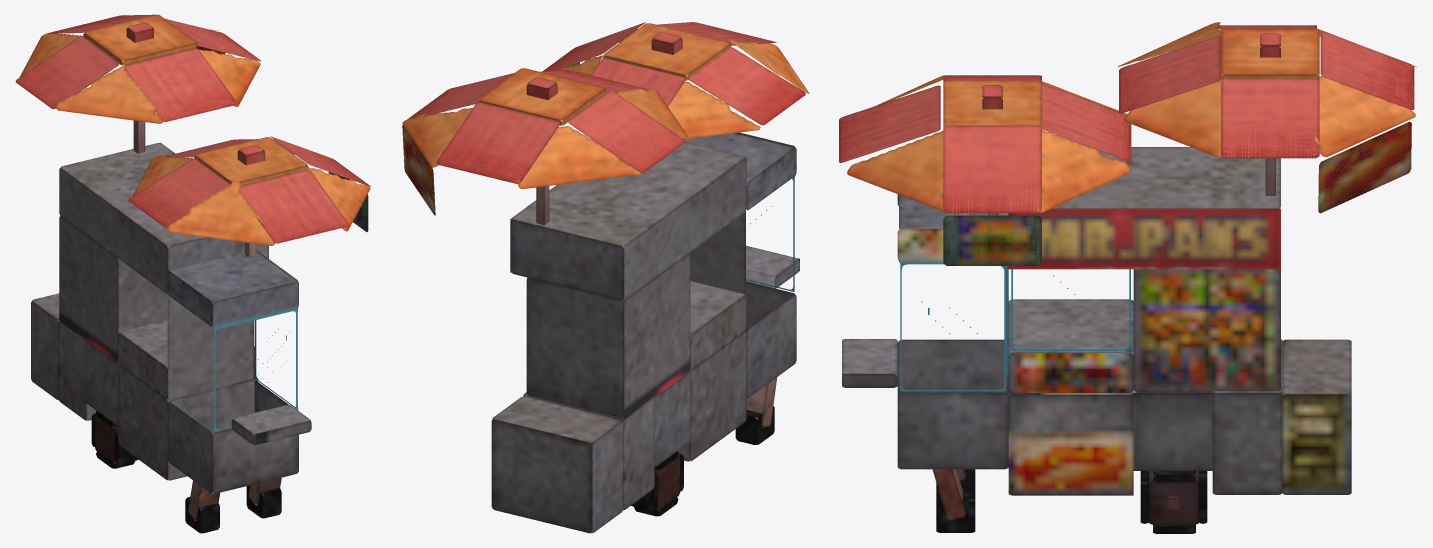
Rendered from kiosk32.fbx.
The picture shows the model from 3 angles, left to right: view 1: azimuth 30°, elevation 25°; view 2: azimuth 150°, elevation 25°; view 3: azimuth 270°, elevation 25°; orthographic projection. The views are drawn at different scales.
Visible parts, largest first — view 1: cube_6, cube_5, cube_7, cube, cube_14, cube_51, cube_35, cube_54, cube_8, cube_39, cube_42, cube_50 (+25 smaller); view 2: cube_6, cube_5, cube_3, cube_47, cube, cube_54, cube_7, cube_42, cube_48, cube_1, cube_33, cube_52 (+22 smaller); view 3: cube_6, cube_5, cube_7, cube, cube_1, cube_3, cube_36, cube_46, cube_2, cube_4, cube_37, cube_45 (+17 smaller).
Part boxes in pixels (x1,y1,x2,y2): cube_6: (59, 142, 268, 293); cube_5: (59, 216, 167, 363); cube_7: (168, 380, 298, 493); cube: (118, 365, 258, 480); cube_14: (167, 293, 253, 400); cube_51: (124, 48, 236, 121); cube_35: (240, 170, 348, 243); cube_54: (15, 36, 119, 109); cube_8: (169, 251, 296, 302); cube_39: (168, 182, 275, 245); cube_42: (128, 158, 229, 227); cube_50: (56, 66, 163, 123); cube_6: (510, 142, 746, 300); cube_5: (526, 253, 690, 419); cube_3: (491, 396, 623, 533); cube_47: (436, 102, 560, 183); cube: (677, 331, 746, 461); cube_54: (568, 90, 684, 172); cube_7: (745, 281, 796, 398); cube_42: (688, 47, 805, 125); cube_48: (517, 126, 640, 189); cube_1: (690, 281, 746, 370); cube_33: (603, 23, 731, 80); cube_52: (478, 68, 606, 125); cube_6: (1008, 147, 1280, 269); cube_5: (1133, 269, 1280, 392); cube_7: (897, 339, 1008, 469); cube: (1008, 351, 1133, 495); cube_1: (1008, 299, 1133, 392); cube_3: (1282, 339, 1351, 494); cube_36: (943, 125, 1041, 212); cube_46: (1221, 78, 1319, 158); cube_2: (1212, 339, 1282, 494); cube_4: (1130, 392, 1215, 470); cube_37: (943, 215, 1041, 265); cube_45: (1318, 121, 1411, 213).
Bounding box in the file's own units: 138 × 243 × 261.
Materials: 1 (1 with a texture image).
